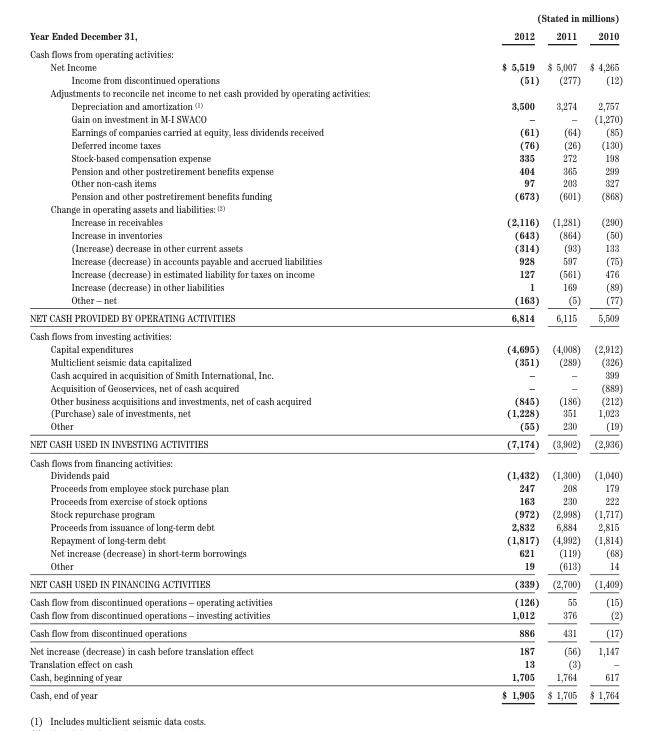table: (29, 29, 622, 700)
table column: (29, 29, 411, 700), (411, 29, 542, 700), (542, 29, 584, 700), (584, 29, 622, 700)
table column header: (29, 29, 622, 44)
table projected row header: (29, 44, 622, 60), (29, 452, 622, 468), (29, 326, 622, 341), (29, 85, 622, 98), (29, 202, 622, 215)
table row: (29, 308, 622, 326), (29, 434, 622, 452), (29, 574, 622, 592), (29, 623, 622, 641), (29, 44, 622, 60), (29, 292, 622, 308), (29, 452, 622, 468), (29, 558, 622, 574), (29, 607, 622, 623), (29, 669, 622, 685), (29, 29, 622, 44), (29, 326, 622, 341), (29, 419, 622, 434), (29, 592, 622, 607), (29, 641, 622, 656), (29, 685, 622, 700), (29, 72, 622, 85), (29, 85, 622, 98), (29, 98, 622, 111), (29, 111, 622, 124), (29, 124, 622, 137), (29, 137, 622, 150), (29, 150, 622, 163), (29, 163, 622, 176), (29, 176, 622, 189), (29, 189, 622, 202), (29, 202, 622, 215), (29, 227, 622, 240), (29, 240, 622, 253), (29, 253, 622, 266), (29, 266, 622, 279), (29, 279, 622, 292), (29, 341, 622, 354), (29, 354, 622, 367), (29, 367, 622, 380), (29, 380, 622, 393), (29, 393, 622, 406), (29, 406, 622, 419), (29, 468, 622, 481), (29, 481, 622, 494), (29, 494, 622, 507), (29, 519, 622, 532), (29, 532, 622, 545), (29, 545, 622, 558), (29, 656, 622, 669), (29, 60, 622, 72), (29, 215, 622, 227), (29, 507, 622, 519)
